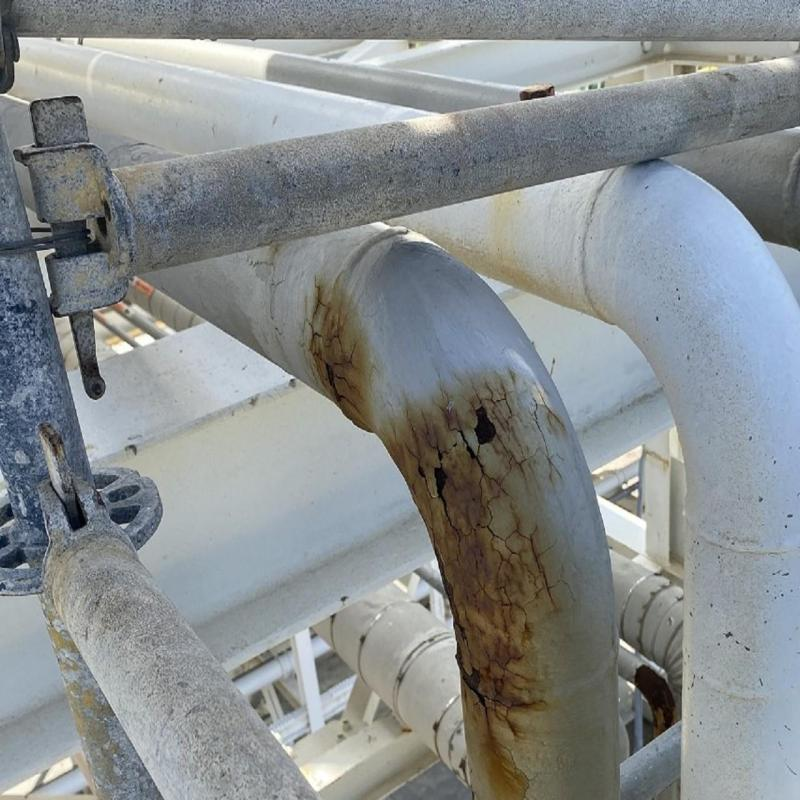corrosion: (406, 401, 546, 591), (458, 622, 517, 750), (316, 297, 360, 406), (314, 305, 359, 406)
